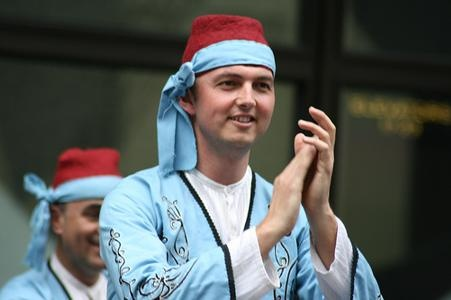person without safety: (120, 9, 284, 300)
